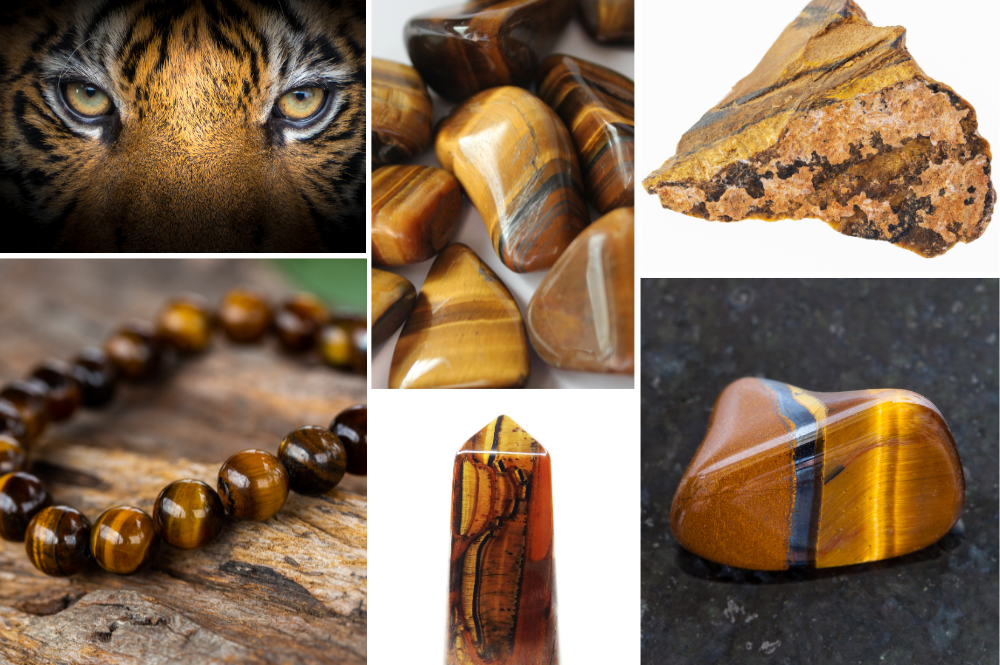Tigers_Eye: (643, 0, 1000, 261), (668, 372, 971, 579), (429, 412, 593, 665)
